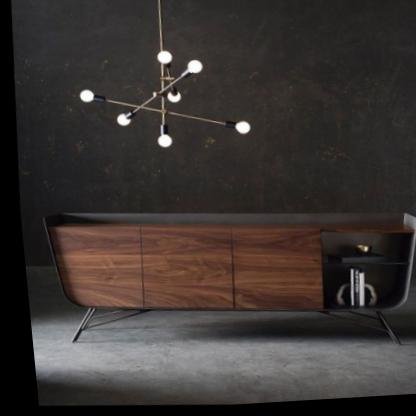Sideboard: (38, 213, 414, 349)
